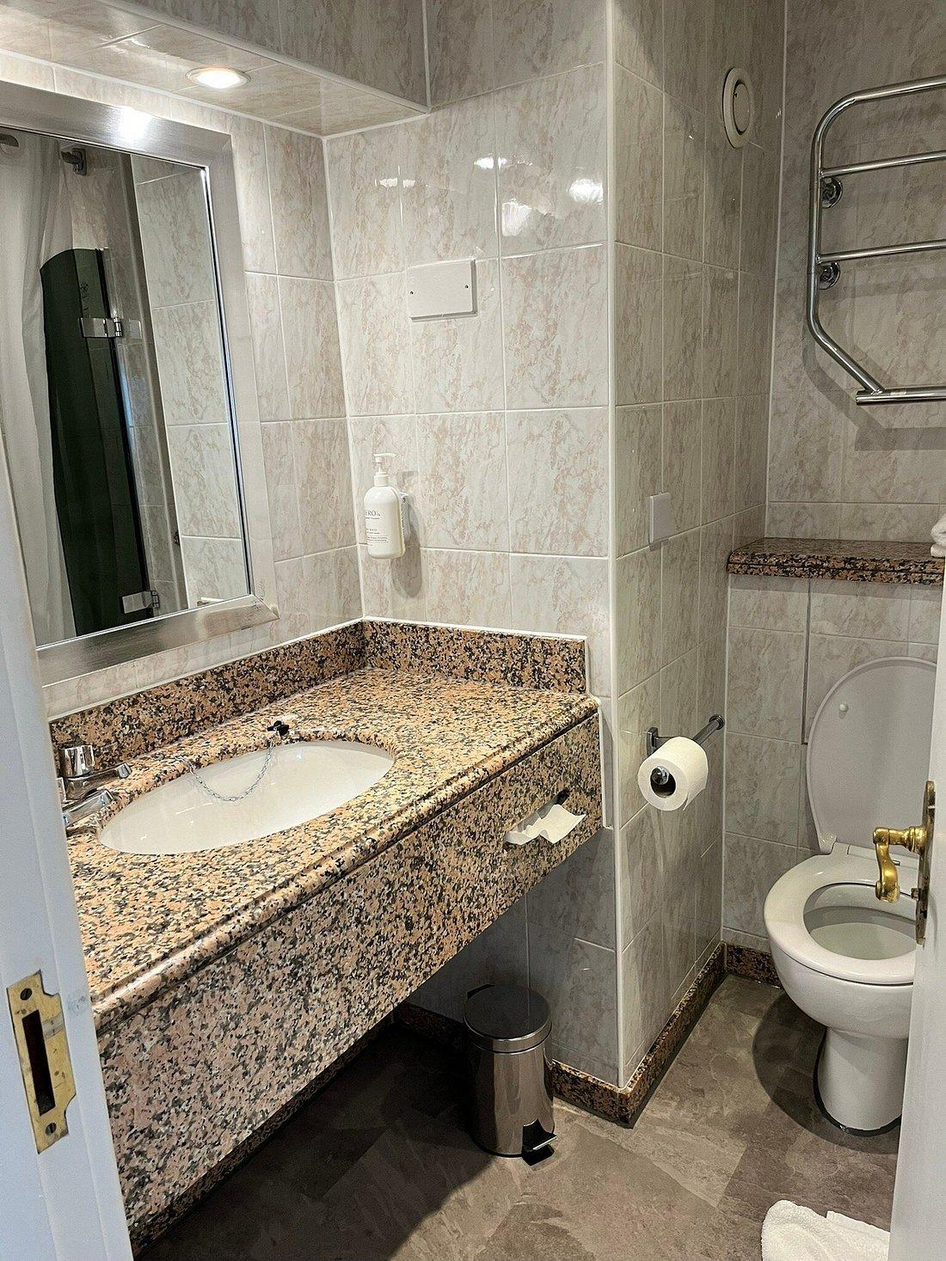clean mirror: (3, 127, 282, 655)
clean_floor: (277, 1019, 894, 1261)
clean_sink: (60, 660, 605, 1236)
